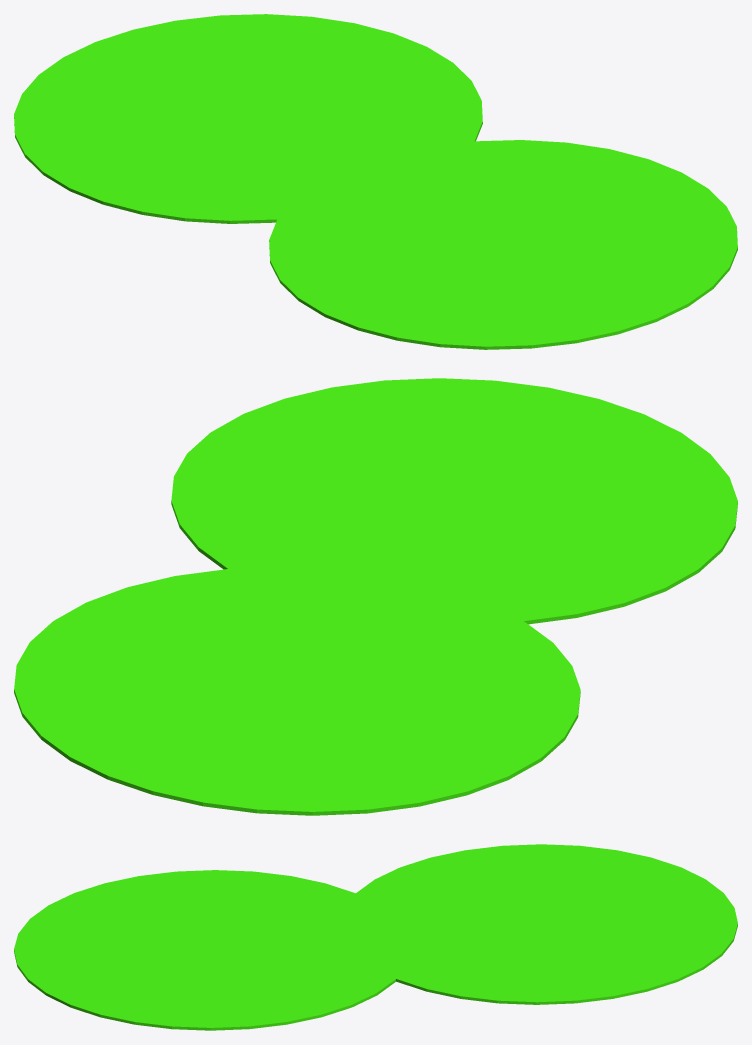
The model's file is pickles.FBX.
3 views of the same model, one above another, from view 1: azimuth 30°, elevation 25°; view 2: azimuth 150°, elevation 25°; view 3: azimuth 270°, elevation 25° (orthographic). The views are drawn at different scales.
Visible parts, largest first — view 1: Kiwis; view 2: Kiwis; view 3: Kiwis.
Part boxes in pixels (bbox=[...]): Kiwis: bbox=[14, 14, 737, 349]; Kiwis: bbox=[14, 378, 737, 815]; Kiwis: bbox=[14, 844, 737, 1030].
Size of the model in its own units: 0.000923 by 2.9e-05 by 0.00146.
